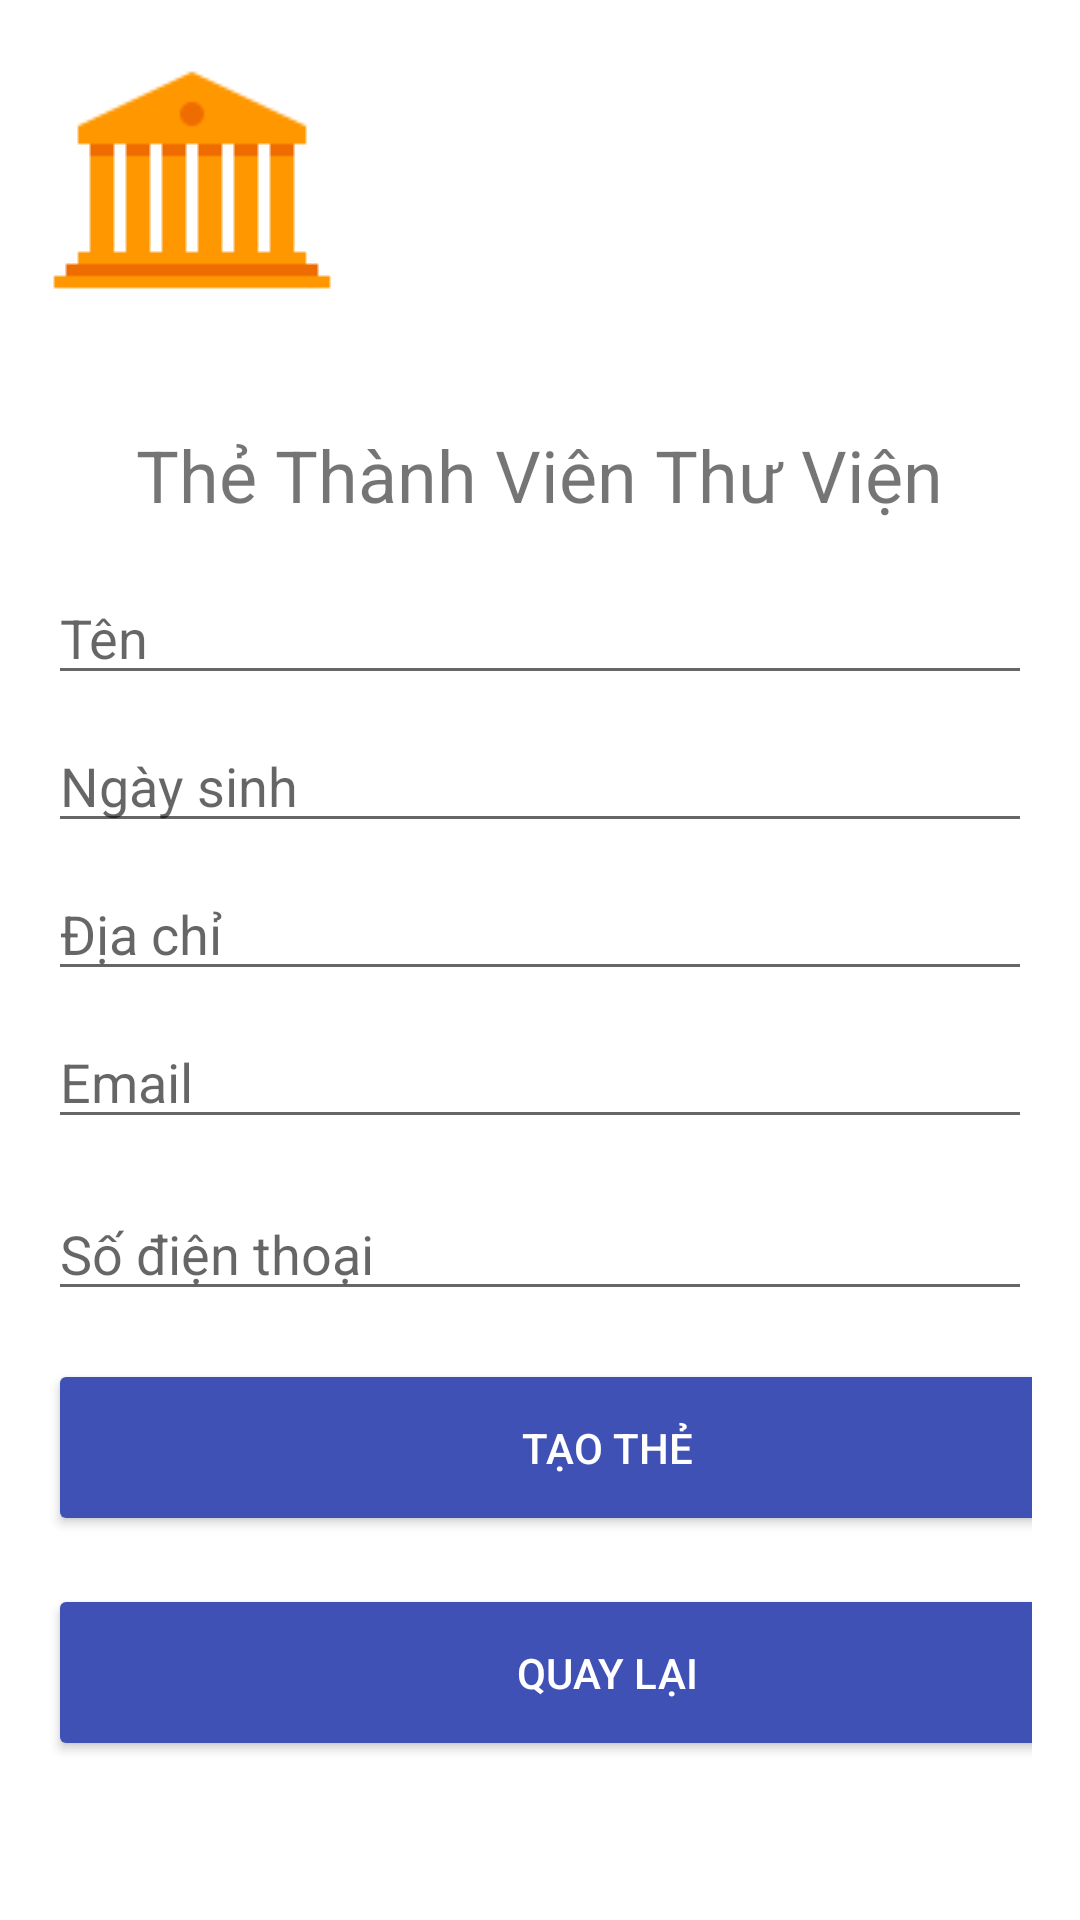

Icons on this 1080 × 1920 Android screen, each with the point to tap as (x=x, y=y):
library: (x=192, y=180)
